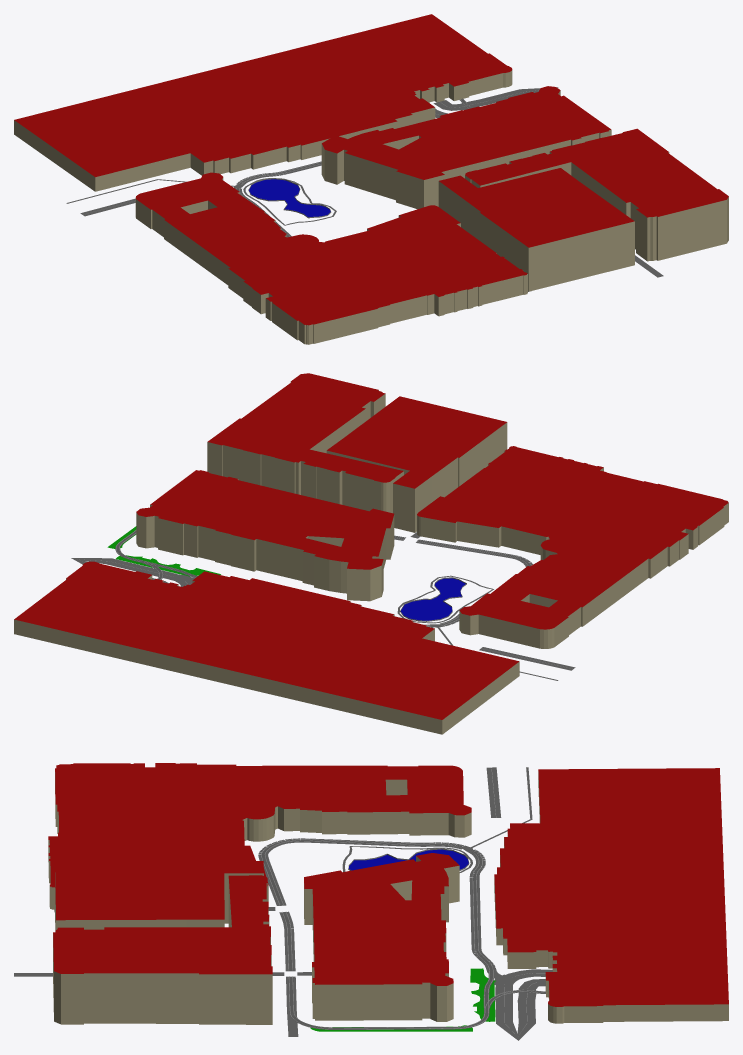
The model's file is Americana Game Map.fbx.
3 renders of one model, top to bottom at view 1: azimuth 30°, elevation 25°; view 2: azimuth 150°, elevation 25°; view 3: azimuth 270°, elevation 25°, orthographic. The views are drawn at different scales.
Parts seen in each view (by area): view 1: Building, Building2, Building1, Road, AreaFountain; view 2: Building, Building1, Building2, AreaFountain, Road1, Road, Rail; view 3: Building, Building1, Building2, Road1, Rail, Road, AreaFountain, Road2, SurfaceArea1, SurfaceArea.
Part boxes in pixels (box(x1,y1,x2,y2)): Building: box(14, 14, 611, 344); Building2: box(438, 168, 634, 291); Building1: box(465, 128, 728, 261); Road: box(66, 87, 557, 225); AreaFountain: box(248, 178, 331, 218); Building: box(14, 446, 728, 734); Building1: box(207, 373, 403, 513); Building2: box(326, 396, 507, 532); AreaFountain: box(400, 577, 466, 621); Road1: box(72, 535, 532, 627); Road: box(71, 558, 575, 680); Rail: box(115, 530, 531, 627); Building: box(48, 763, 728, 1023); Building1: box(53, 875, 272, 1024); Building2: box(55, 860, 263, 931); Road1: box(258, 838, 552, 1040); Rail: box(260, 839, 494, 1029); Road: box(342, 767, 545, 1040); AreaFountain: box(348, 848, 469, 870); Road2: box(14, 907, 311, 1036); SurfaceArea1: box(470, 968, 495, 1021); SurfaceArea: box(310, 1025, 472, 1031).
Bounding box in the file's own units: 263 × 22.6 × 291.
